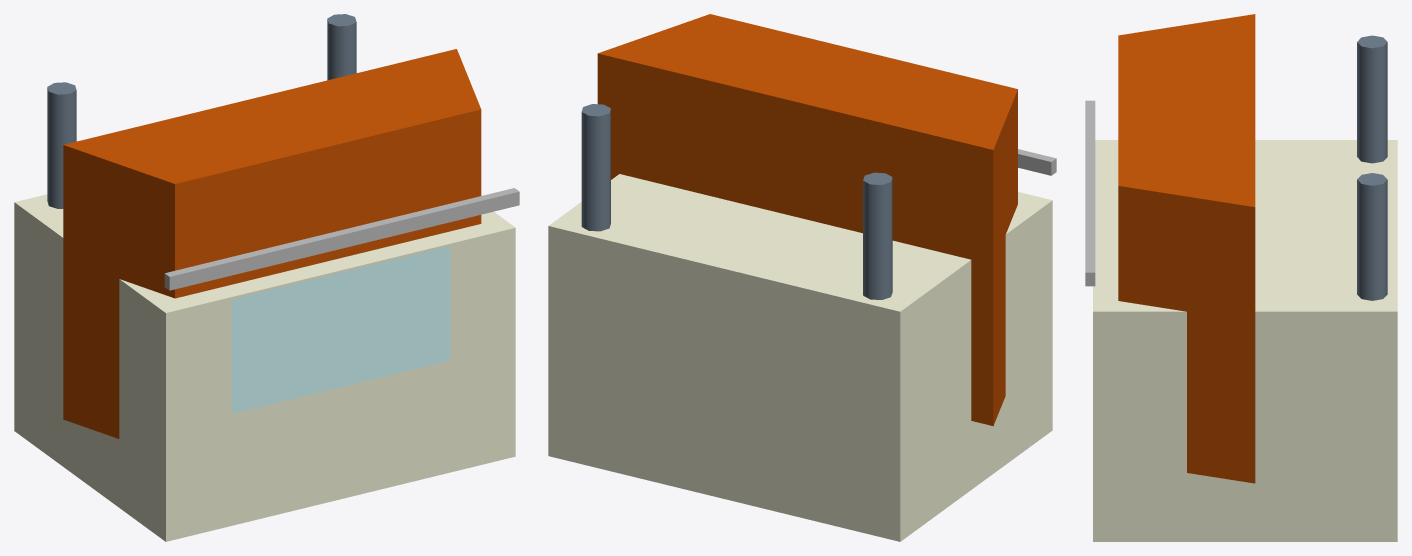
Rendered from googie_diner.glb.
3 views of the same model, side by side, from view 1: azimuth 30°, elevation 25°; view 2: azimuth 150°, elevation 25°; view 3: azimuth 270°, elevation 25° (orthographic).
Parts seen in each view (by area): view 1: main_block, googie_roof, storefront_window, googie_building; view 2: main_block, googie_roof, googie_building; view 3: main_block, googie_roof, googie_building.
Boxes of the visible parts, box(x1,y1,x2,y2) form: main_block: box(14, 194, 515, 541); googie_roof: box(63, 49, 481, 438); storefront_window: box(231, 246, 450, 413); googie_building: box(47, 14, 519, 290); main_block: box(548, 174, 1052, 541); googie_roof: box(597, 14, 1017, 426); googie_building: box(581, 104, 1056, 299); main_block: box(1093, 140, 1397, 541); googie_roof: box(1118, 14, 1255, 483); googie_building: box(1085, 35, 1387, 300).
Size of the model in its own units: 9 by 7.5 by 6.15.
